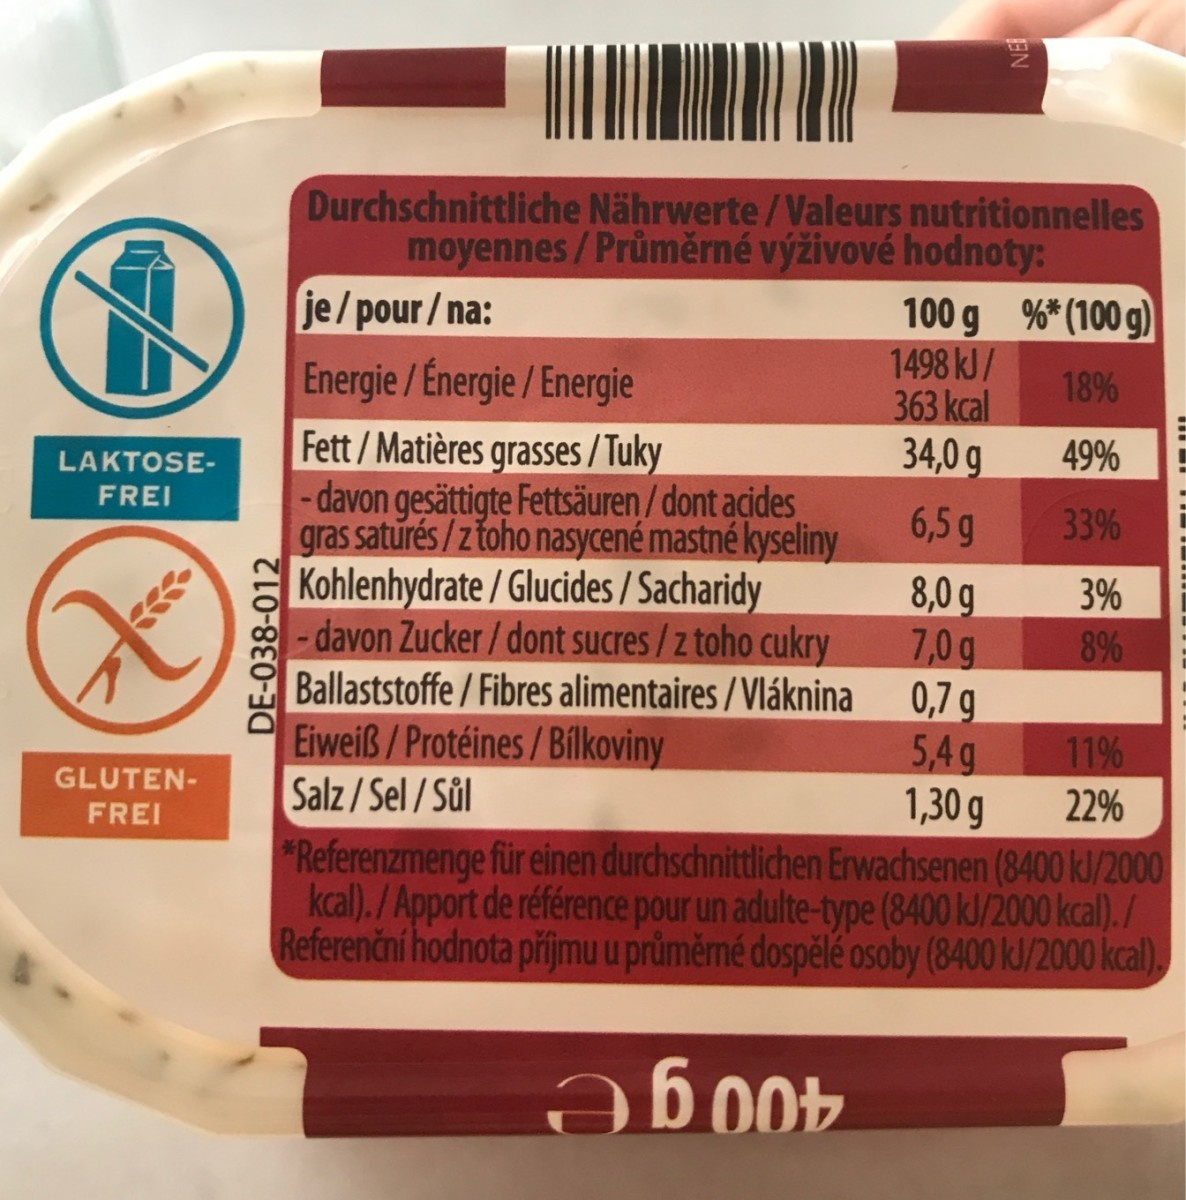column: (295, 286, 851, 832), (1023, 283, 1155, 832), (888, 295, 996, 832)
table: (273, 175, 1179, 837)
